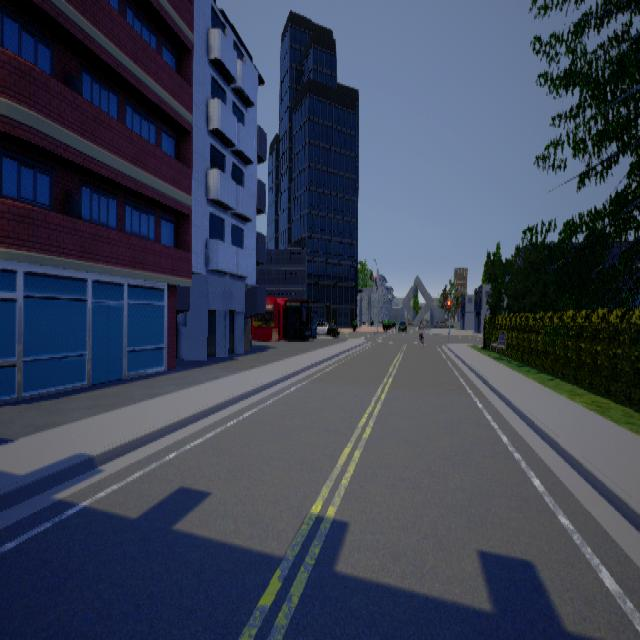bike: (415, 316, 426, 348)
yellow_light: (447, 296, 450, 314)
